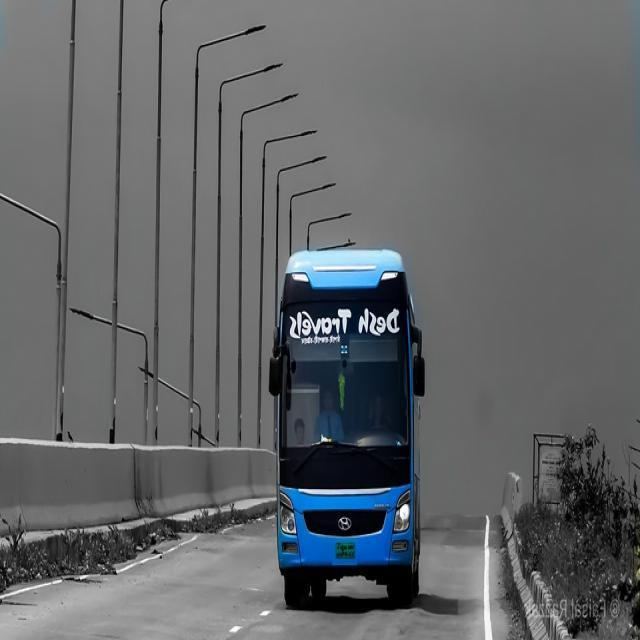Double decker: (241, 233, 451, 612)
